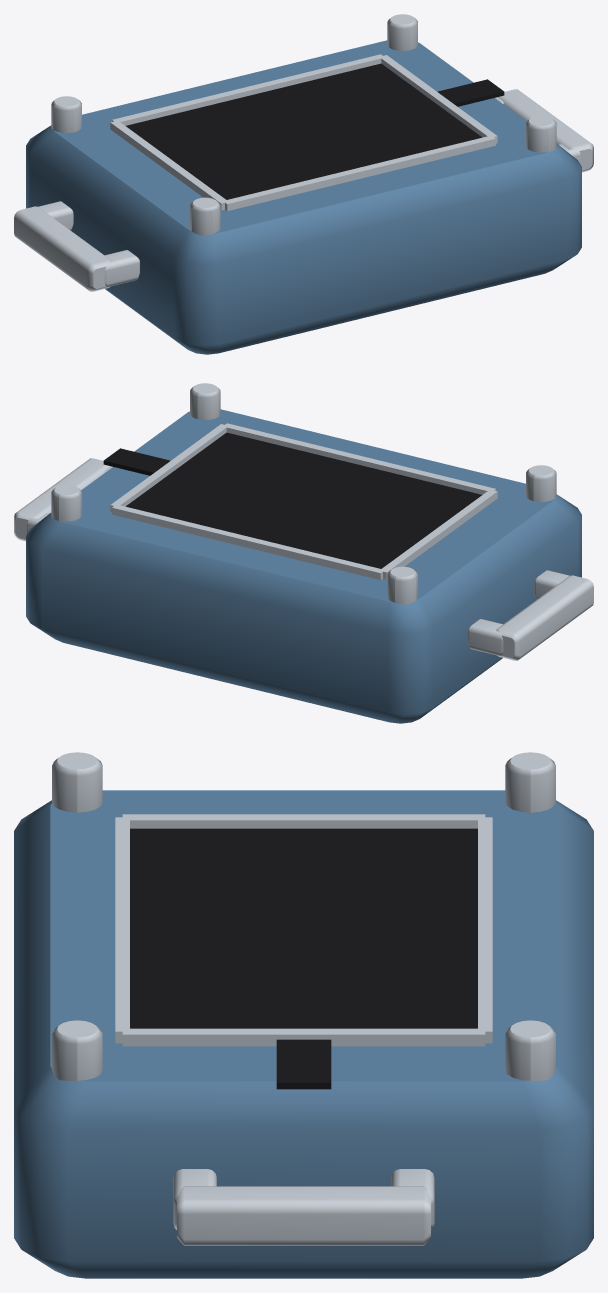
Rendered from objet_moule_plaque.glb.
3 views of the same model, one above another, from view 1: azimuth 30°, elevation 25°; view 2: azimuth 150°, elevation 25°; view 3: azimuth 270°, elevation 25° (orthographic). The views are drawn at different scales.
Visible parts, largest first — view 1: moule_moule_corps.006, moule_moule_creux.006, moule_moule_acier.006; view 2: moule_moule_corps.006, moule_moule_creux.006, moule_moule_acier.006; view 3: moule_moule_corps.006, moule_moule_creux.006, moule_moule_acier.006.
Boxes of the visible parts, box(x1,y1,x2,y2) form: moule_moule_corps.006: box(26, 40, 581, 354); moule_moule_creux.006: box(126, 63, 504, 199); moule_moule_acier.006: box(14, 14, 593, 291); moule_moule_corps.006: box(26, 409, 581, 723); moule_moule_creux.006: box(103, 432, 481, 568); moule_moule_acier.006: box(14, 383, 593, 660); moule_moule_corps.006: box(14, 790, 593, 1278); moule_moule_creux.006: box(130, 828, 477, 1089); moule_moule_acier.006: box(52, 752, 555, 1245).
Bounding box in the file's own units: 0.264 × 0.0725 × 0.16.
